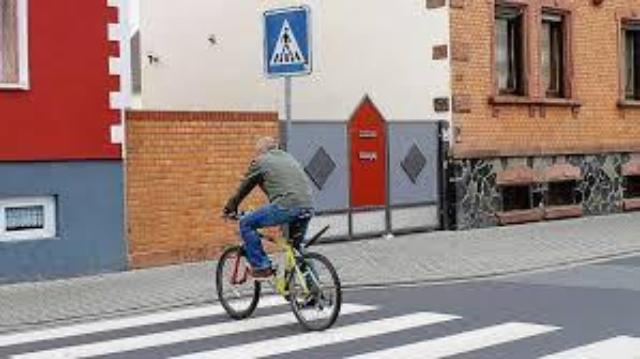crosswalk-sign: (261, 6, 314, 78)
